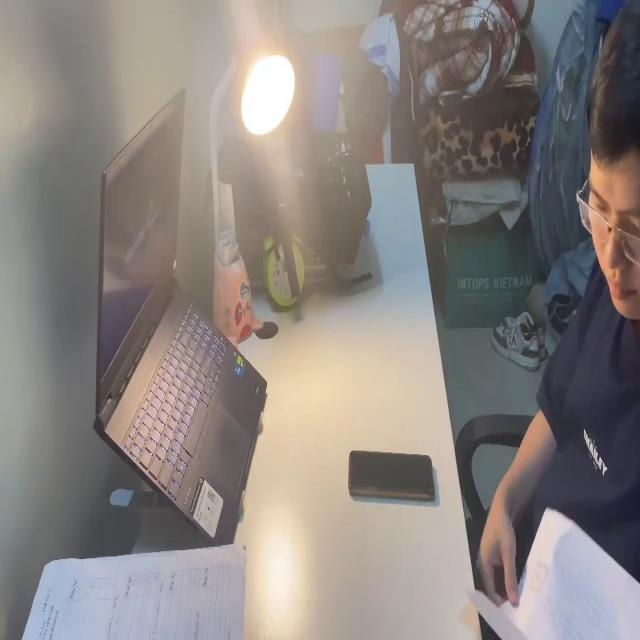book: (11, 539, 246, 640), (468, 506, 639, 640)
laptop: (90, 81, 268, 544)
phone: (345, 443, 440, 508)
student: (473, 9, 640, 640)
